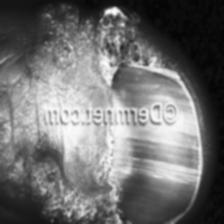Toxin: (42, 2, 140, 83), (34, 154, 126, 224)
